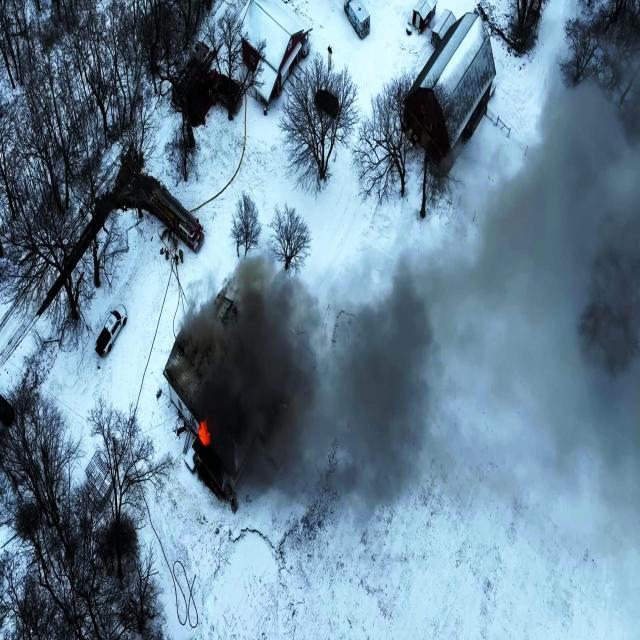Fire: (198, 416, 214, 451)
Smoke: (215, 84, 640, 544)
